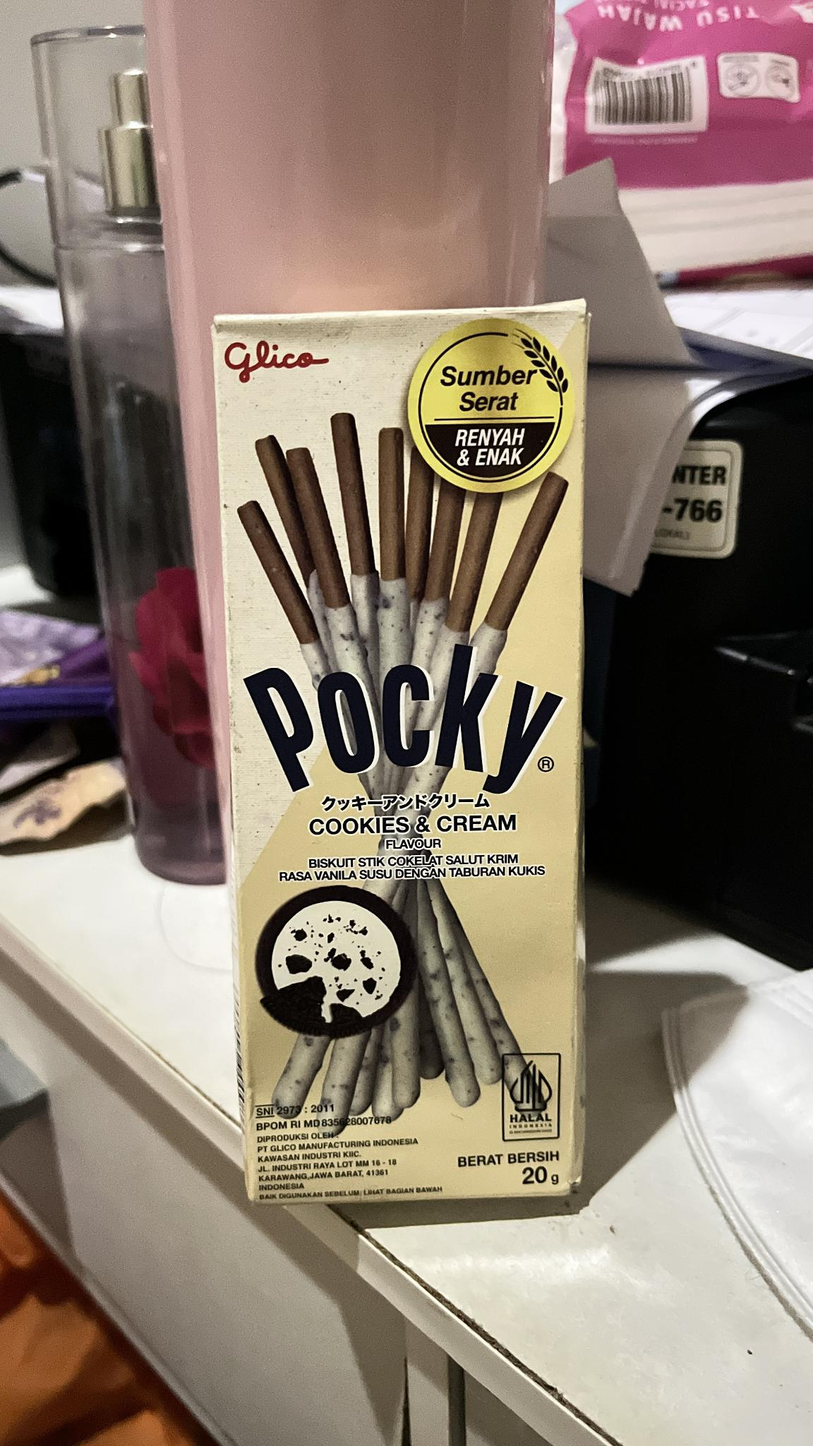Kertas: (215, 308, 588, 1201)
